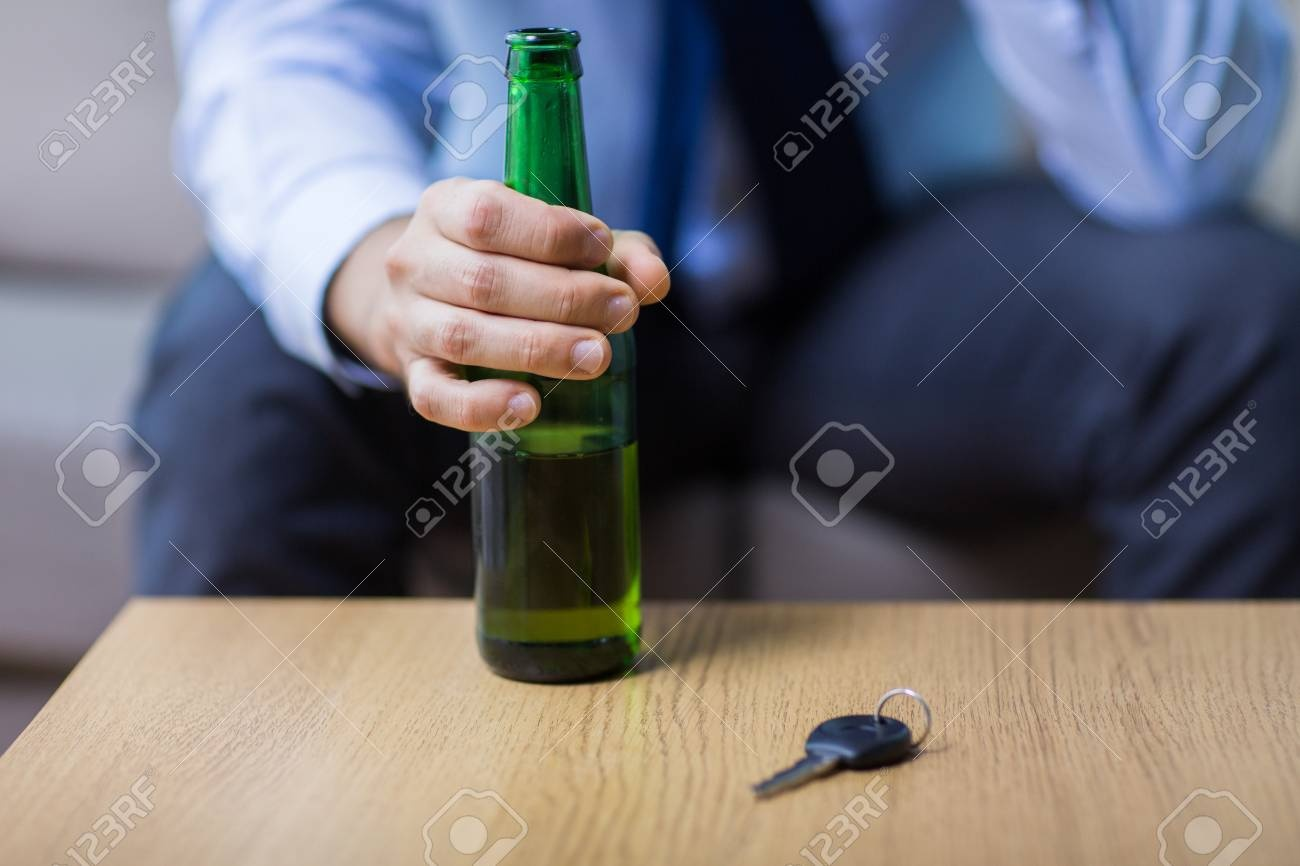beerBottle: (477, 34, 640, 669)
